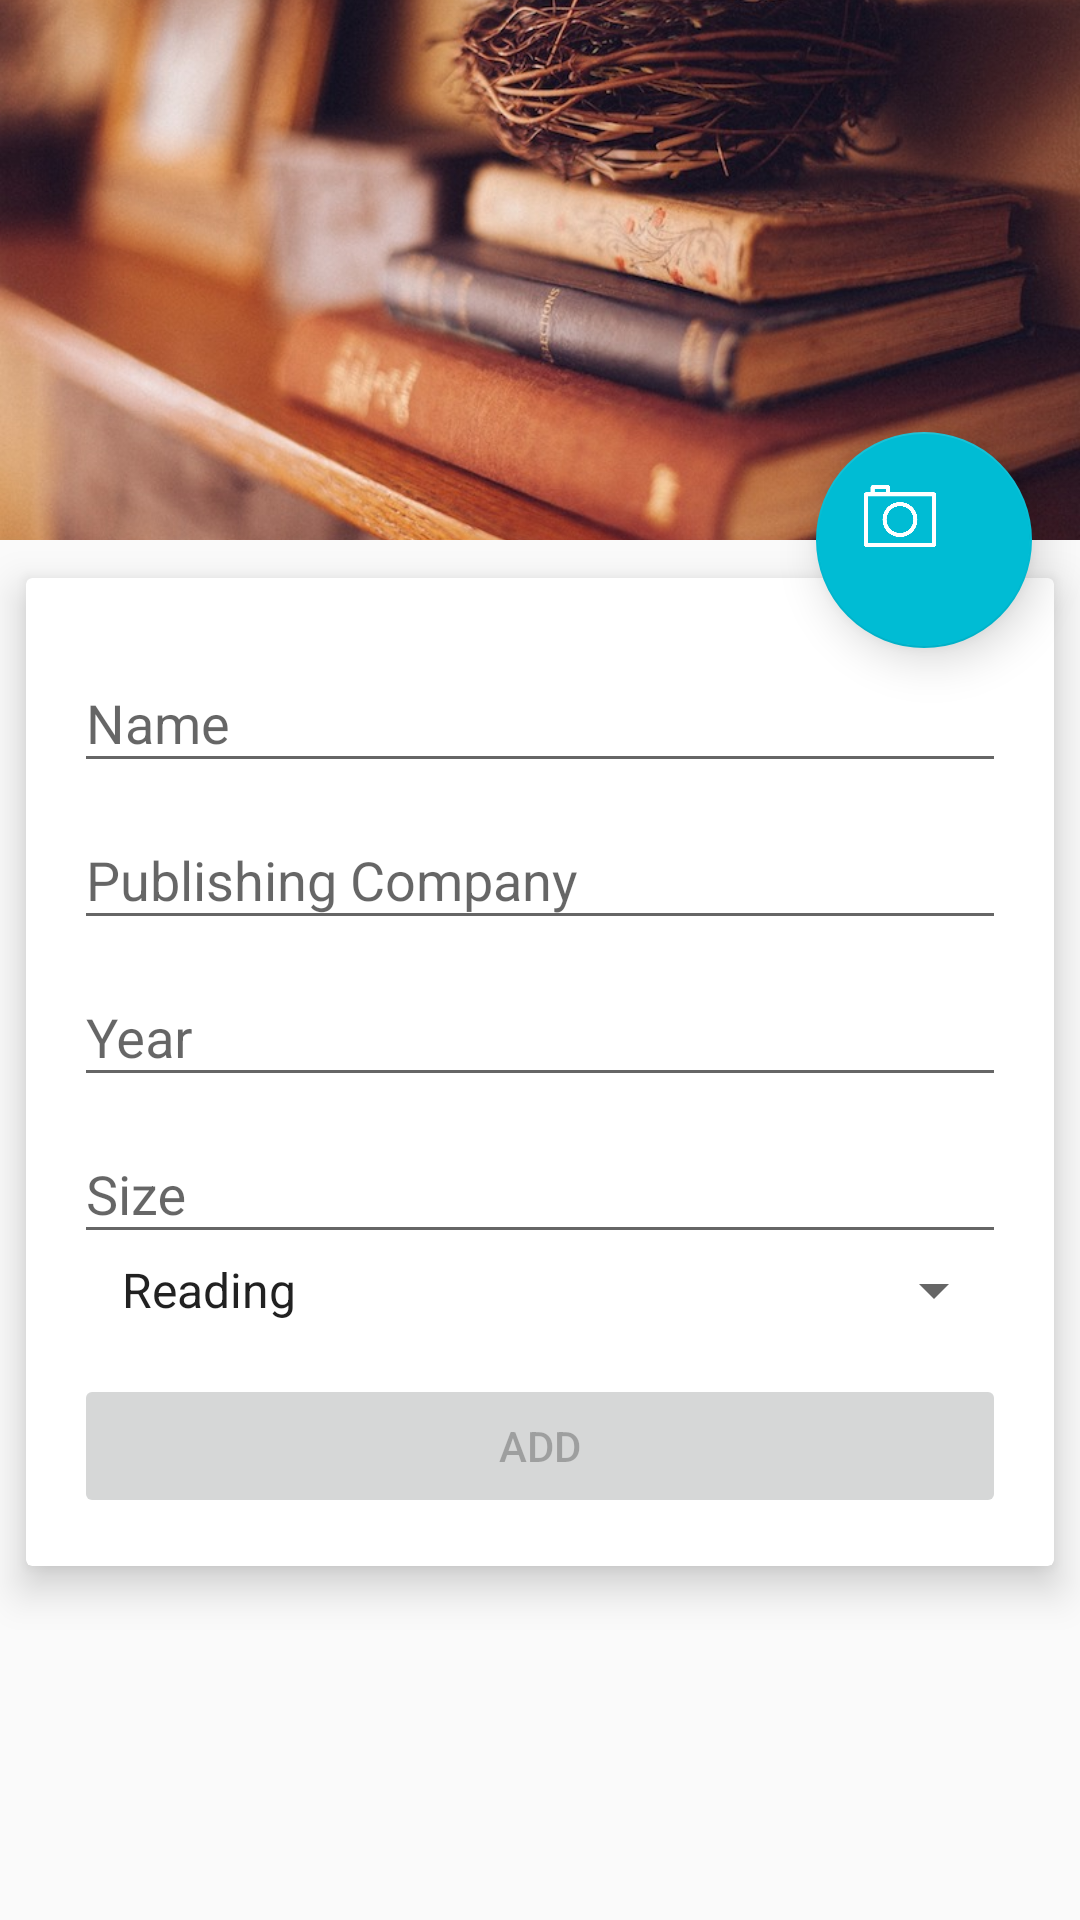

Icon click points for this 1080px×1920px phone screenshot, format [x,y]:
photo: [924,540]
